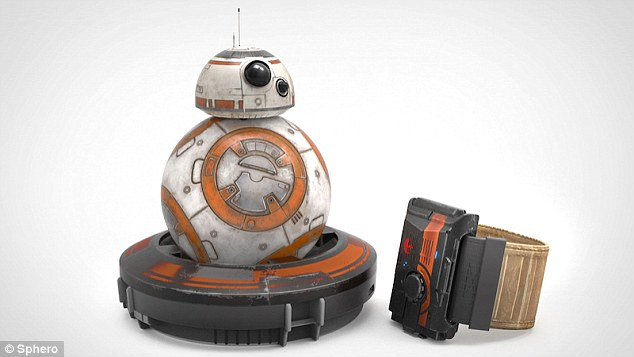bb8: (160, 47, 331, 266)
